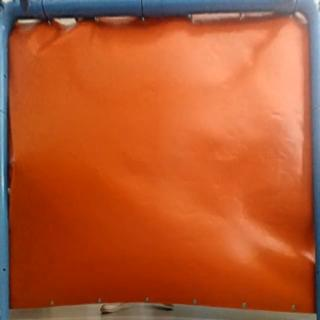Hit-hRxx: (8, 154, 21, 170)
